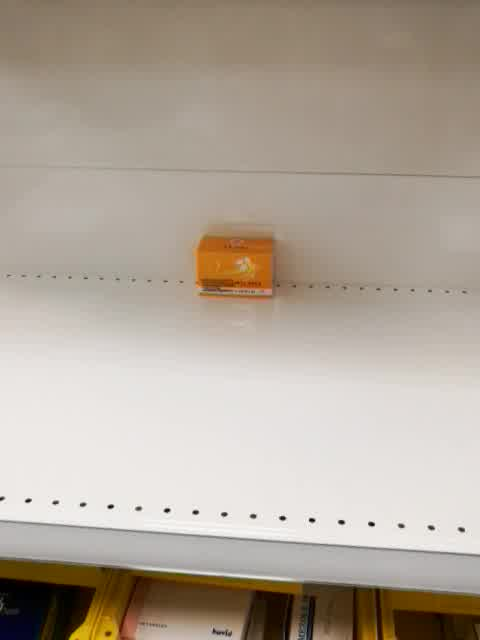jasminetea: (196, 233, 276, 300)
